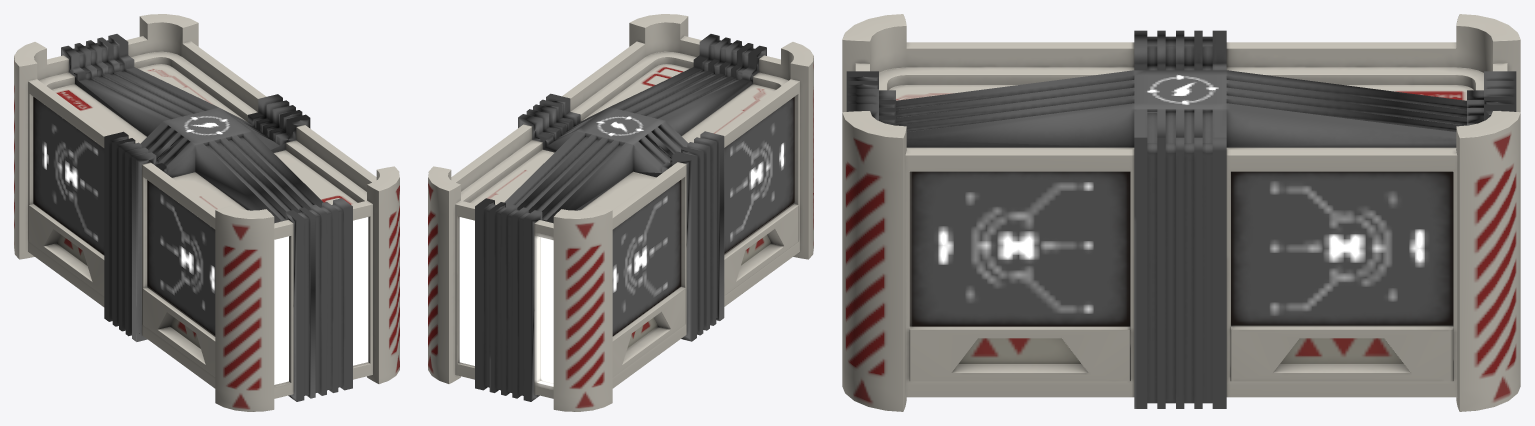
Rendered from SM_Crate_4.fbx.
3 views of the same model, side by side, from view 1: azimuth 30°, elevation 25°; view 2: azimuth 150°, elevation 25°; view 3: azimuth 270°, elevation 25° (orthographic). The views are drawn at different scales.
Visible parts, largest first — view 1: SM_Crate_4_LOD0; view 2: SM_Crate_4_LOD0; view 3: SM_Crate_4_LOD0.
Boxes of the visible parts, x1,y1,x2,y2 form: SM_Crate_4_LOD0: (14,14,399,411); SM_Crate_4_LOD0: (428,14,813,411); SM_Crate_4_LOD0: (842,14,1520,411).
Size of the model in its own units: 58.4 by 60.09 by 135.
Materials: 1 (1 with a texture image).
